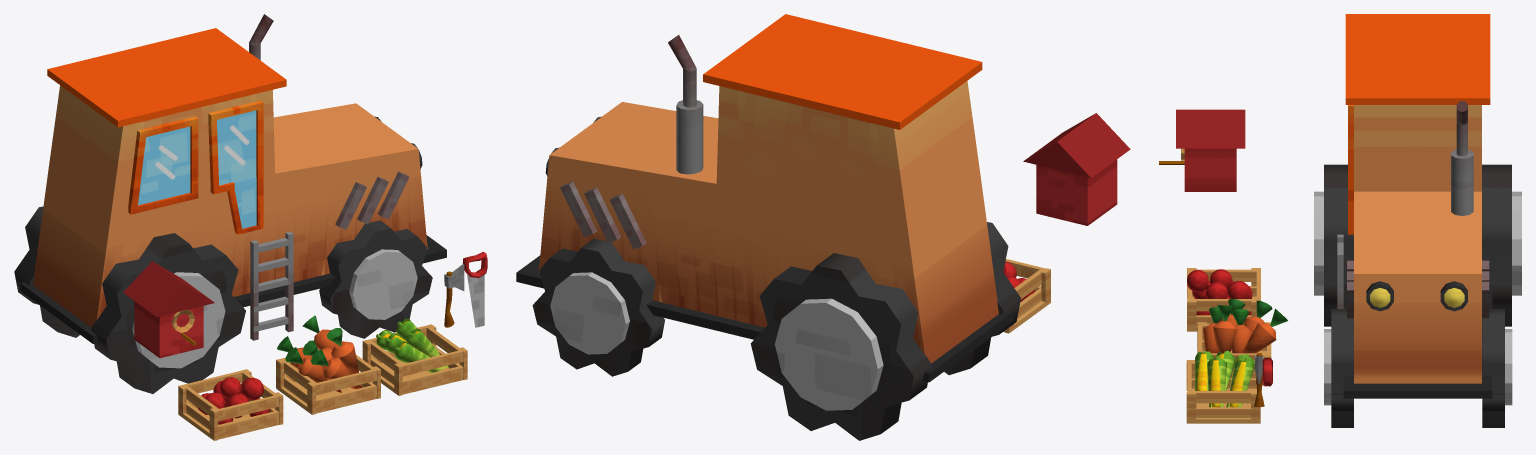
File: Golden CHicken Hero Environment Assets EXTRA.fbx
The picture shows the model from 3 angles, left to right: view 1: azimuth 30°, elevation 25°; view 2: azimuth 150°, elevation 25°; view 3: azimuth 270°, elevation 25°; orthographic projection. The views are drawn at different scales.
Visible parts, largest first — view 1: mesh_tractor_01, mesh_carrotcrate_01, mesh_birdhouse_01, mesh_corncrate_01, mesh_tomatocrate_01, mesh_handsaw_01, mesh_axe_01; view 2: mesh_tractor_01, mesh_birdhouse_01, mesh_tomatocrate_01; view 3: mesh_tractor_01, mesh_birdhouse_01, mesh_corncrate_01, mesh_carrotcrate_01, mesh_tomatocrate_01, mesh_axe_01.
Part boxes in pixels (x1,y1,x2,y2): mesh_tractor_01: [14, 14, 446, 393]; mesh_carrotcrate_01: [276, 315, 380, 414]; mesh_birdhouse_01: [123, 261, 214, 358]; mesh_corncrate_01: [362, 318, 467, 395]; mesh_tomatocrate_01: [178, 369, 283, 440]; mesh_handsaw_01: [462, 251, 487, 327]; mesh_axe_01: [444, 263, 464, 327]; mesh_tractor_01: [516, 14, 1020, 440]; mesh_birdhouse_01: [1023, 113, 1130, 225]; mesh_tomatocrate_01: [1003, 259, 1050, 333]; mesh_tractor_01: [1314, 14, 1521, 427]; mesh_birdhouse_01: [1159, 109, 1245, 191]; mesh_corncrate_01: [1186, 350, 1260, 423]; mesh_carrotcrate_01: [1197, 298, 1287, 385]; mesh_tomatocrate_01: [1187, 268, 1260, 331]; mesh_axe_01: [1254, 353, 1264, 406].
Bounding box in the file's own units: 690 × 507 × 566.
